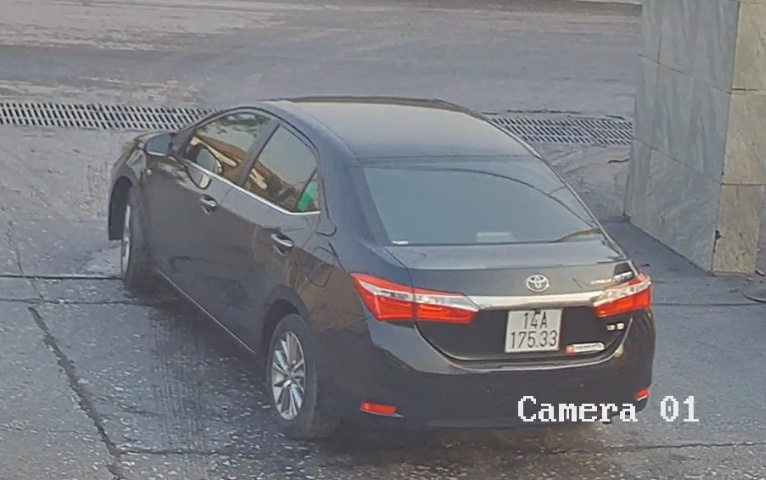vehicle plate: (499, 299, 566, 356)
